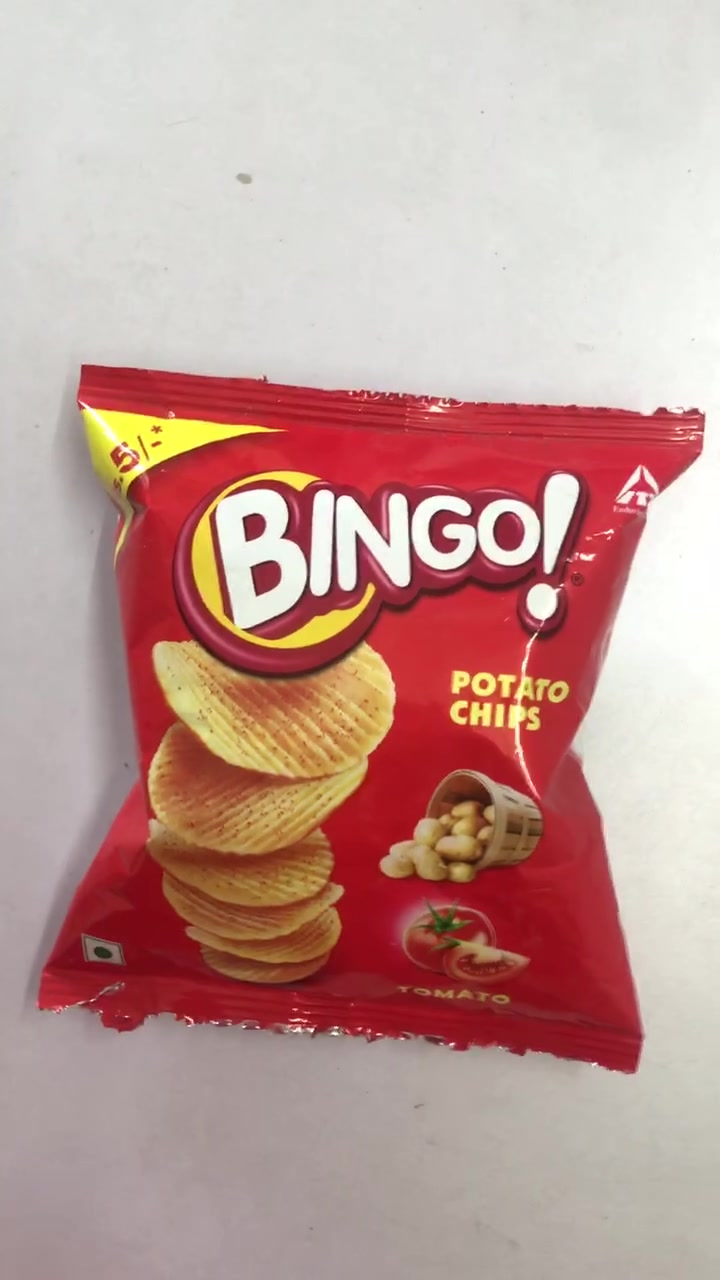Bingo: (42, 366, 706, 1064)
